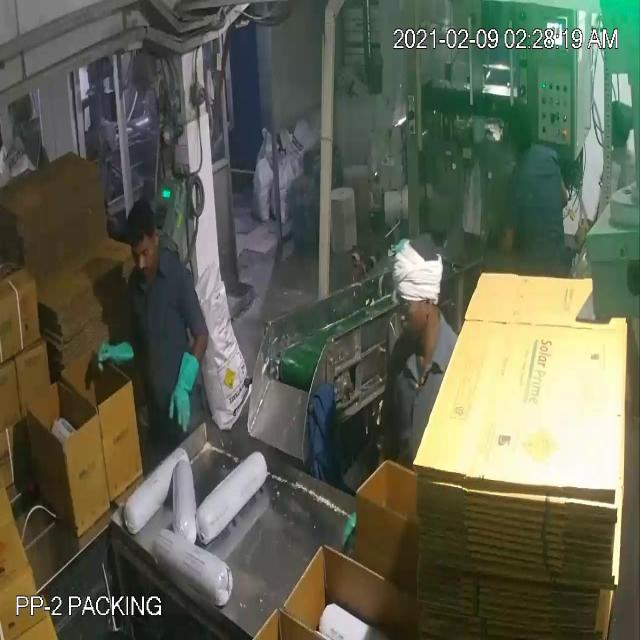gloves: (170, 342, 200, 436), (86, 335, 138, 380)
